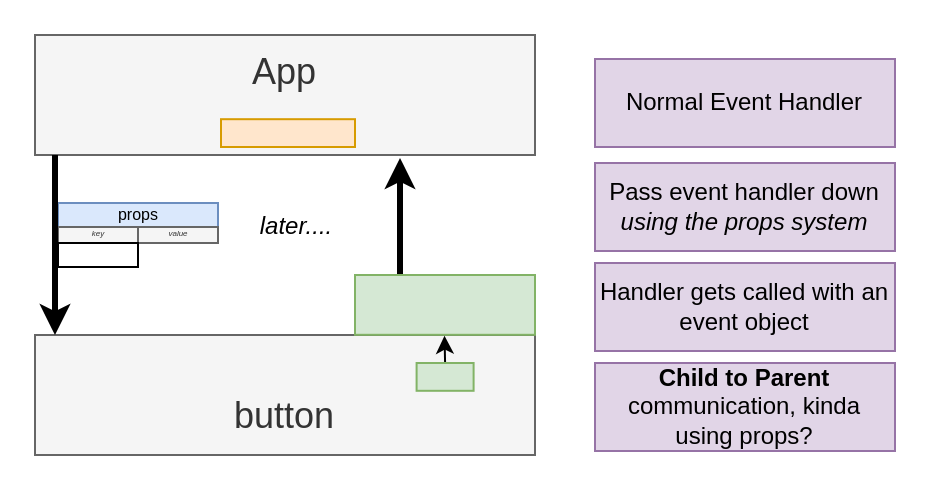
The diagram is 930 pixels wide and 490 high, and some of its shapes have lost their labels. The box of each missing label's shape, as (x1, y1, x2, y2) in pixels:
event: (415, 361, 474, 391)
handleClick: (219, 117, 355, 147)
onClick: (56, 241, 138, 267)
User clicked me! Call onClick function I got from props: (353, 273, 535, 335)
